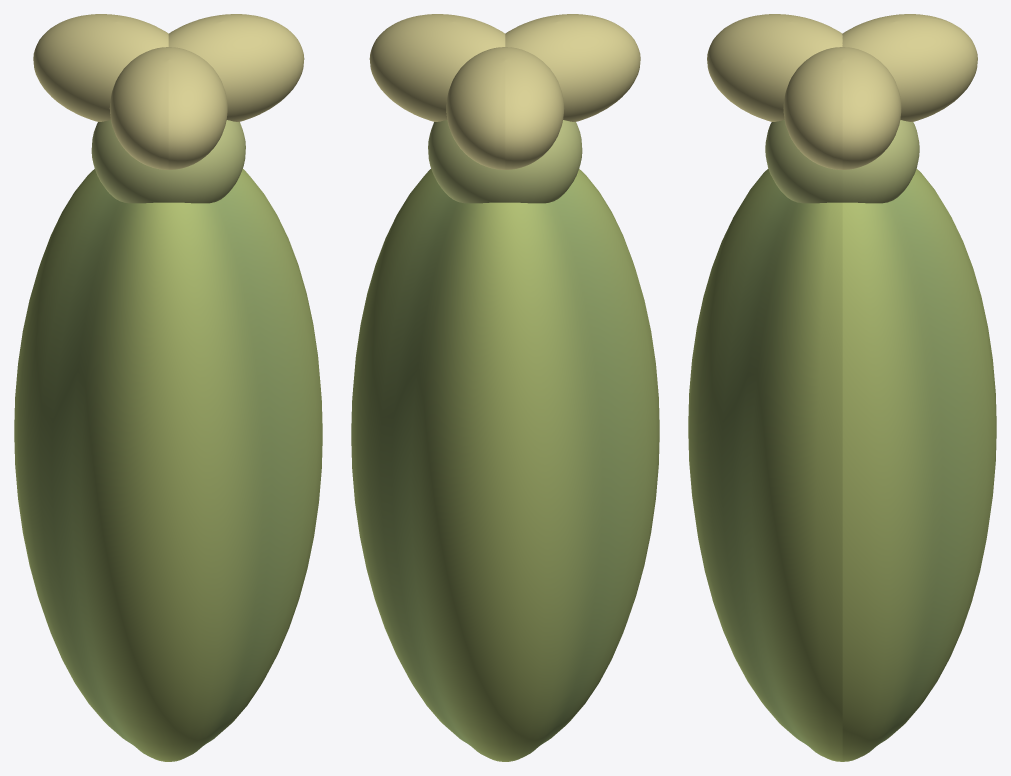
Rendered from tulipan_piestik.glb.
3 renders of one model, left to right at view 1: azimuth 30°, elevation 25°; view 2: azimuth 150°, elevation 25°; view 3: azimuth 270°, elevation 25°, orthographic.
Parts seen in each view (by area): view 1: part_0, part_3, part_2, part_4, part_1; view 2: part_0, part_4, part_2, part_3, part_1; view 3: part_0, part_2, part_3, part_4, part_1.
Boxes of the visible parts, <box> form: part_0: <box>14,169,322,761</box>; part_3: <box>109,47,227,169</box>; part_2: <box>168,14,304,121</box>; part_4: <box>33,14,168,121</box>; part_1: <box>91,120,245,203</box>; part_0: <box>351,169,659,761</box>; part_4: <box>446,47,564,169</box>; part_2: <box>369,14,505,121</box>; part_3: <box>505,14,640,121</box>; part_1: <box>428,120,582,203</box>; part_0: <box>688,169,996,761</box>; part_2: <box>783,47,901,169</box>; part_3: <box>707,14,842,121</box>; part_4: <box>842,14,977,121</box>; part_1: <box>765,120,919,203</box>.
Bounding box in the file's own units: 0.0936 × 0.2543 × 0.0989.
